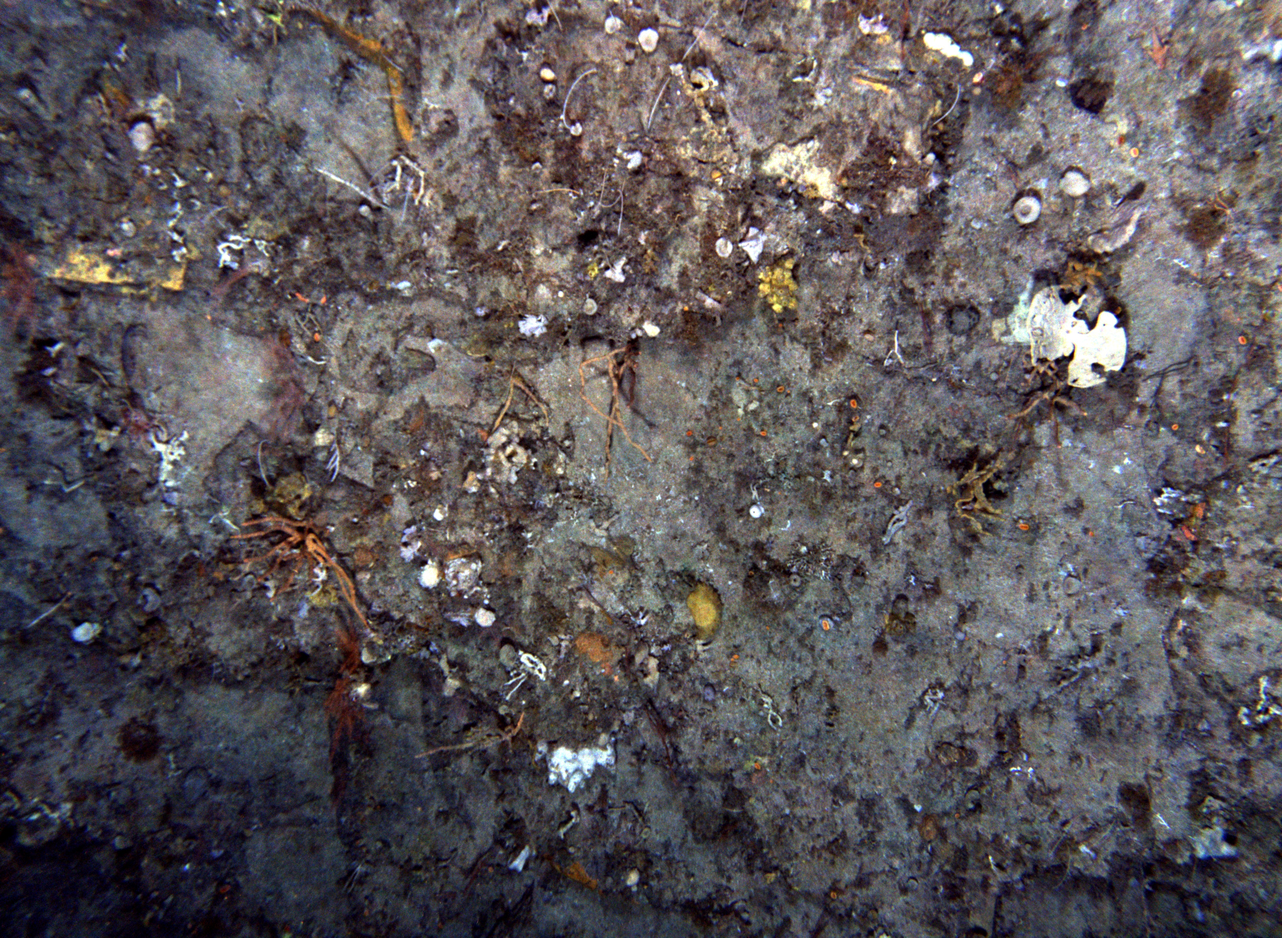Brachionichthyidae: (1142, 23, 1172, 73)
